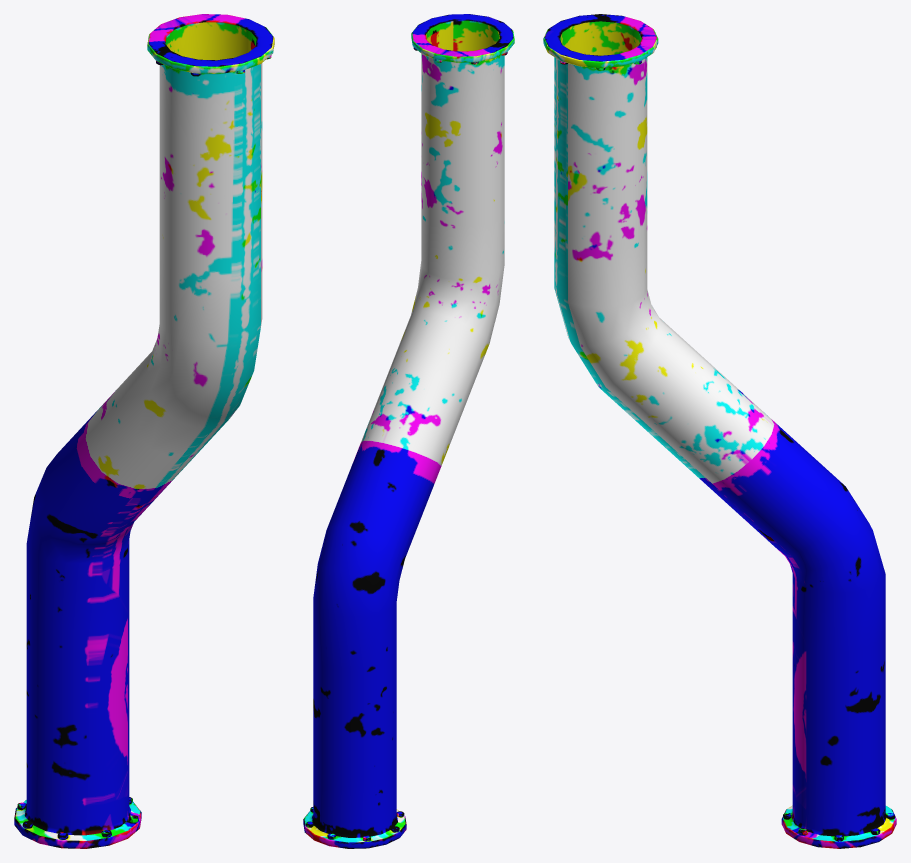
File: sm_PipeBent_01_01.fbx
3 views of the same model, side by side, from view 1: azimuth 30°, elevation 25°; view 2: azimuth 150°, elevation 25°; view 3: azimuth 270°, elevation 25° (orthographic). The views are drawn at different scales.
Parts seen in each view (by area): view 1: sm_PipeBent_01_01_LOD0; view 2: sm_PipeBent_01_01_LOD0; view 3: sm_PipeBent_01_01_LOD0.
Part boxes in pixels (x1=…): sm_PipeBent_01_01_LOD0: x1=14, y1=14, x2=274, y2=848; sm_PipeBent_01_01_LOD0: x1=303, y1=14, x2=514, y2=848; sm_PipeBent_01_01_LOD0: x1=543, y1=14, x2=896, y2=848.
Size of the model in its own units: 29.76 by 91.43 by 225.
